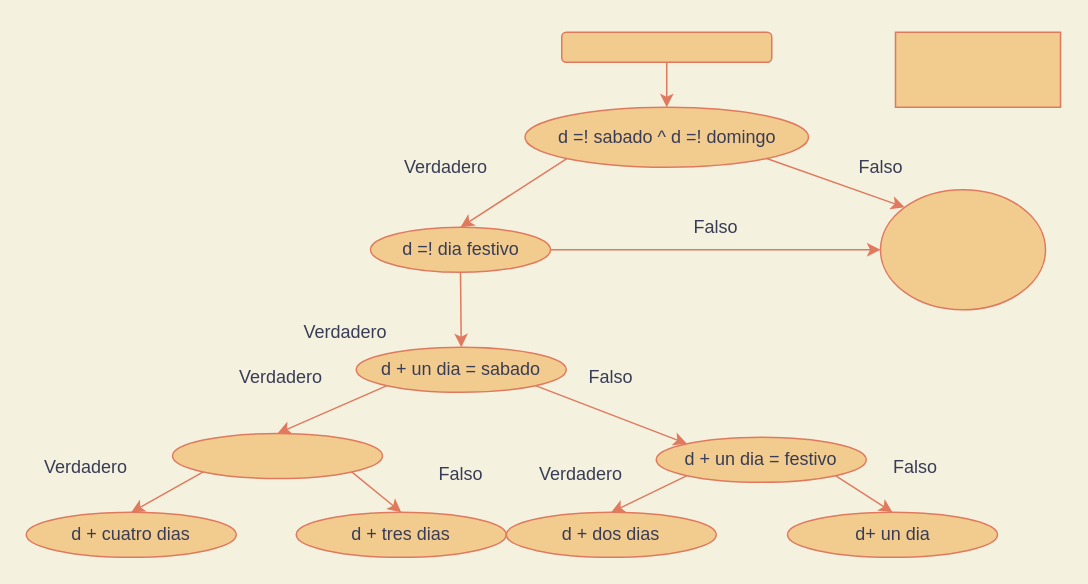
Some shapes in this 1088 by 584 pixel diagram are drawn without their labels. Each missing label, with the centre of its shape:
Calcula fecha entrega: point (666, 46)
d + tres dias= festivo: point (276, 455)
d: Dia actual t: tiempo entrega: point (977, 69)
No se trabaja los fines de semana y festivos: point (962, 249)
